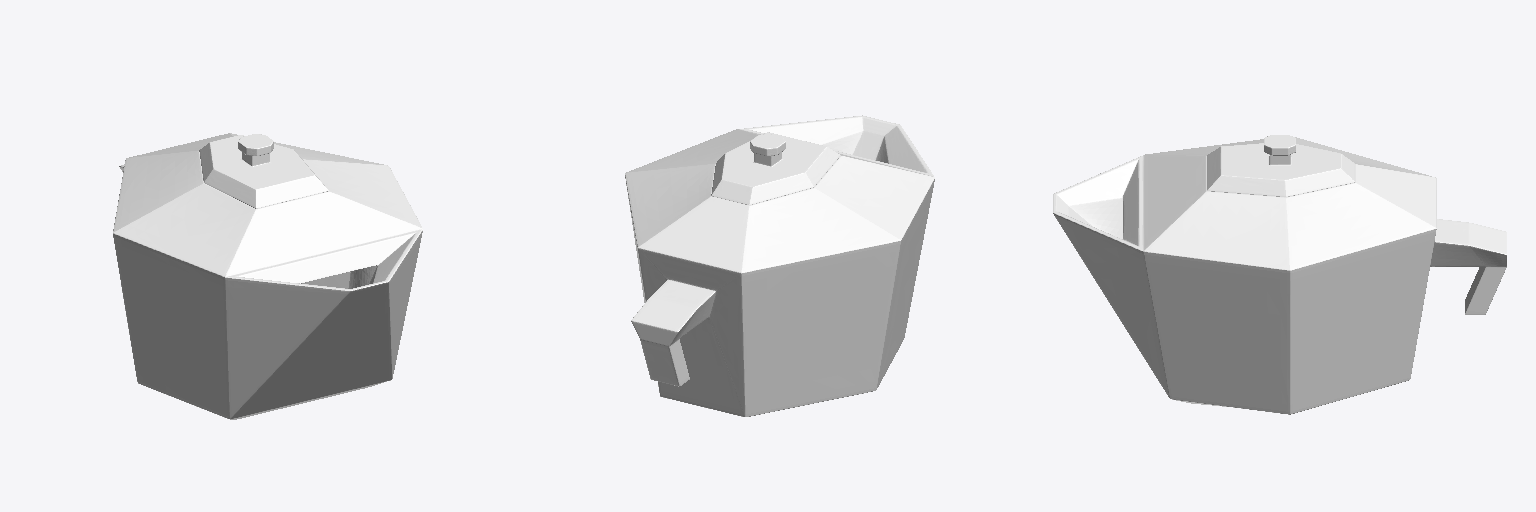
The model's file is pot.obj.
3 views of the same model, side by side, from view 1: azimuth 30°, elevation 25°; view 2: azimuth 150°, elevation 25°; view 3: azimuth 270°, elevation 25° (orthographic).
Visible parts, largest first — view 1: jar_low_Mesh.005, up_low_Mesh.004; view 2: jar_low_Mesh.005, up_low_Mesh.004; view 3: jar_low_Mesh.005, up_low_Mesh.004.
Part boxes in pixels (bbox=[...]): jar_low_Mesh.005: bbox=[113, 133, 422, 419]; up_low_Mesh.004: bbox=[199, 134, 328, 208]; jar_low_Mesh.005: bbox=[625, 115, 934, 416]; up_low_Mesh.004: bbox=[711, 132, 840, 204]; jar_low_Mesh.005: bbox=[1053, 137, 1506, 414]; up_low_Mesh.004: bbox=[1207, 135, 1354, 196].
Size of the model in its own units: 0.0139 by 0.0111 by 0.0198.